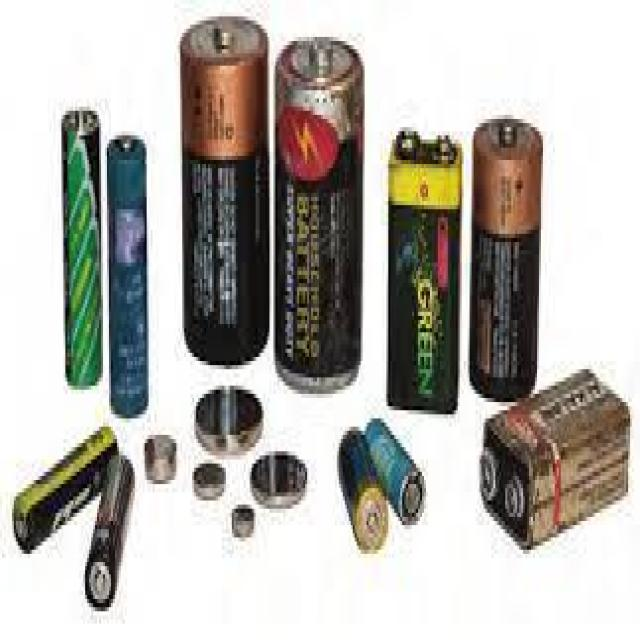AA: (105, 129, 151, 425), (59, 101, 103, 398)
